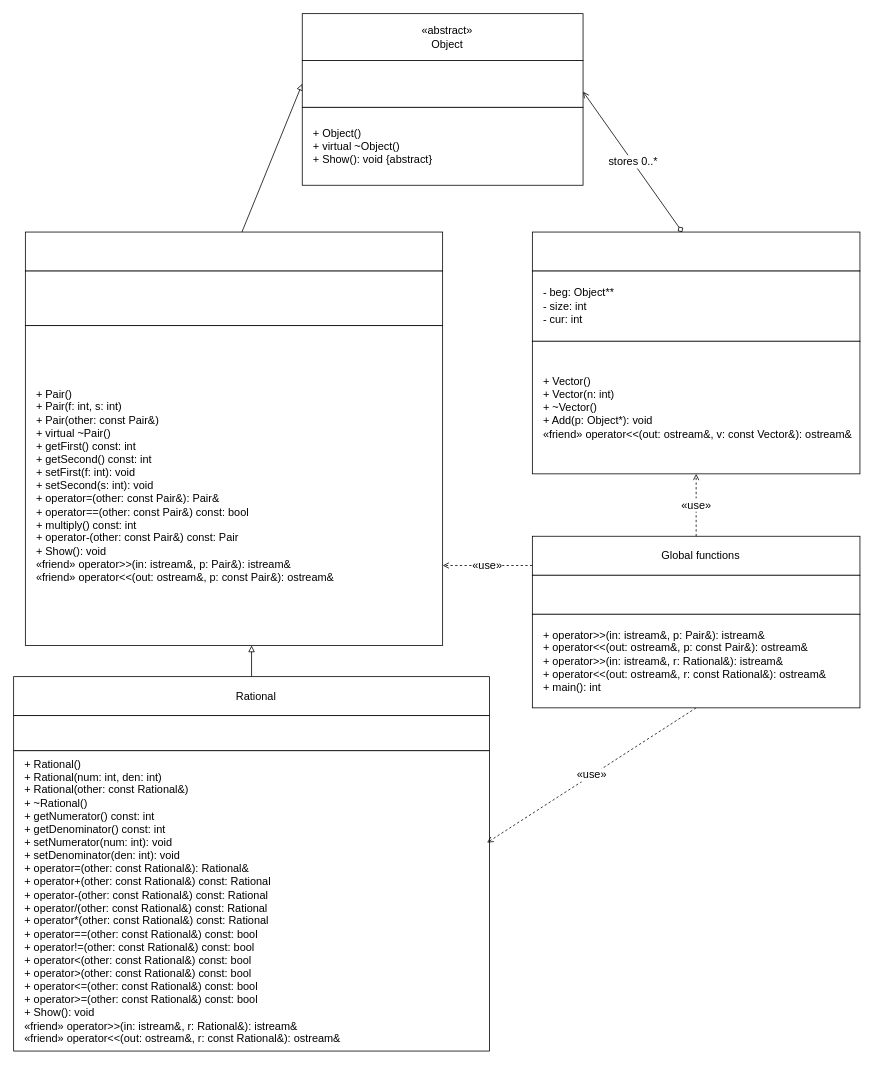
This 880x1065 diagram has some shape labels left out. The shapes that lost their labels are listed below. From the top down, each one's centre as x and y in pixels, then its label:
At point (234, 251): "Pair".
At point (696, 251): "Vector".
At point (234, 298): "# first: int # second: int".
At point (251, 733): "- gcd(a: int, b: int) const: int - reduce(): void".
